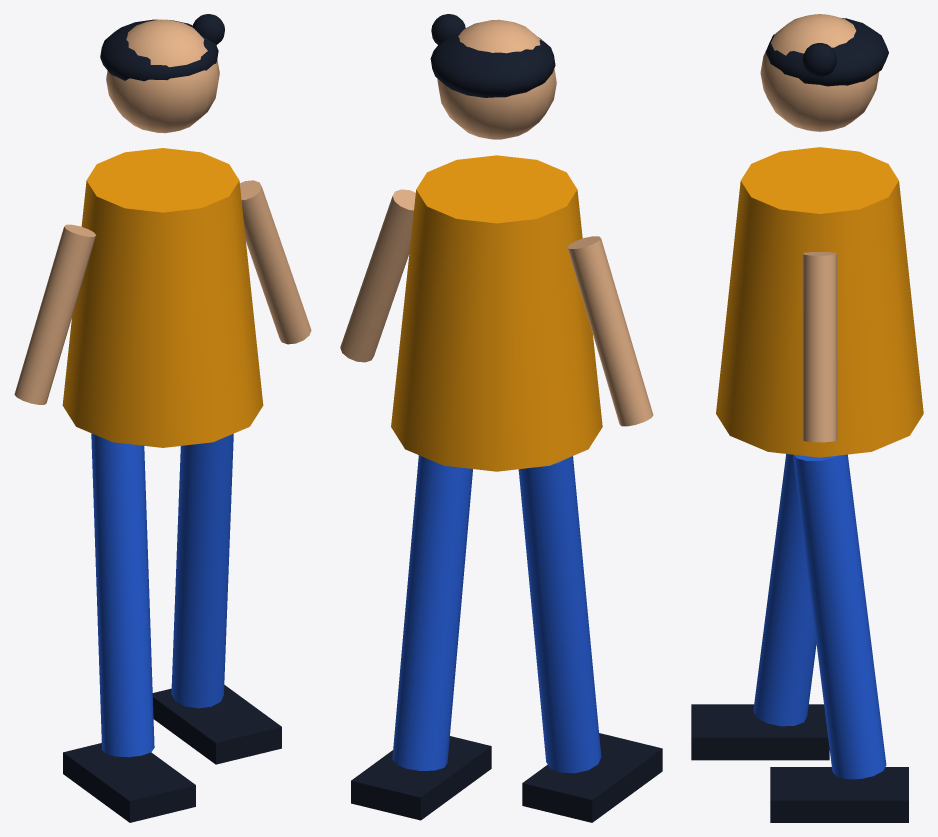
3 views of the same model, side by side, from view 1: azimuth 30°, elevation 25°; view 2: azimuth 150°, elevation 25°; view 3: azimuth 270°, elevation 25° (orthographic). The views are drawn at different scales.
Visible parts, largest first — view 1: person-child; view 2: person-child; view 3: person-child.
Boxes of the visible parts, <box> form: person-child: <box>14,14,311,822</box>; person-child: <box>340,14,662,822</box>; person-child: <box>691,14,923,822</box>.
Size of the model in its own units: 0.4779 by 1.14 by 0.3179.
